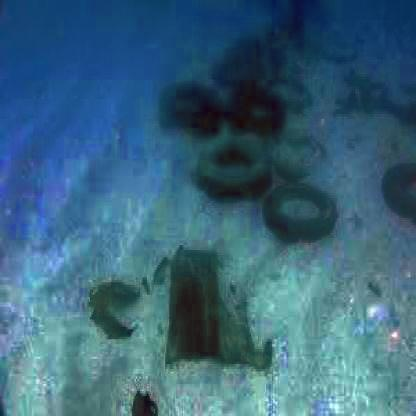tire: (262, 171, 358, 272), (150, 70, 224, 154), (188, 141, 271, 213), (230, 79, 284, 154)
